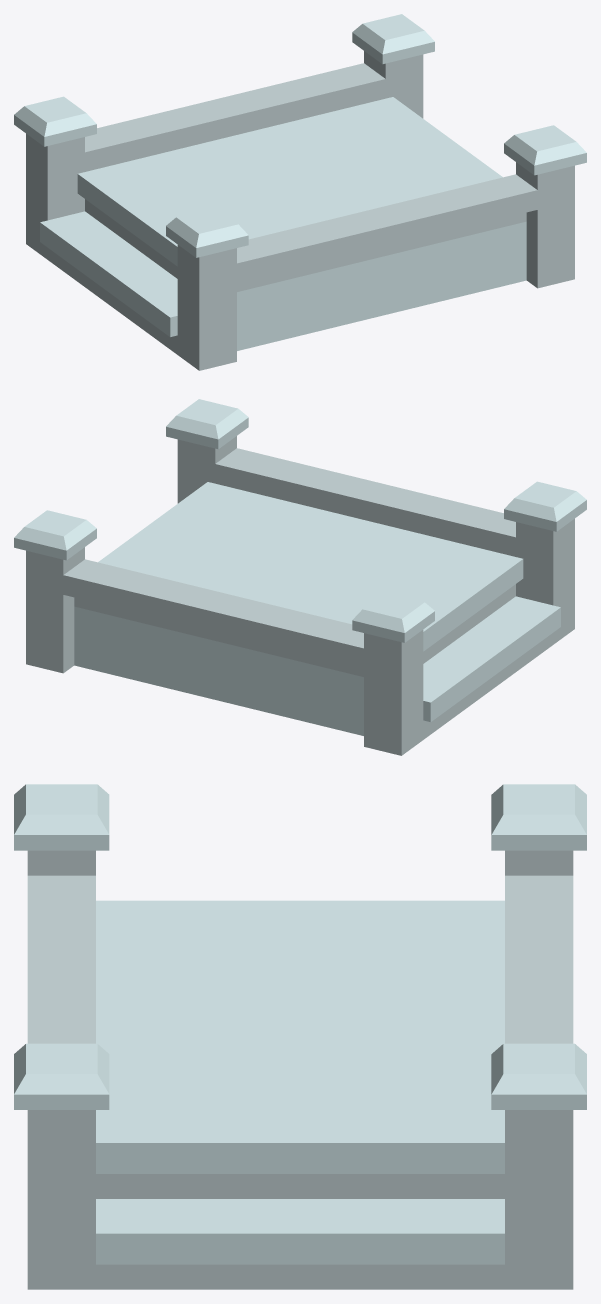
File: bridge_stoneNarrow.gltf
3 views of the same model, one above another, from view 1: azimuth 30°, elevation 25°; view 2: azimuth 150°, elevation 25°; view 3: azimuth 270°, elevation 25° (orthographic). The views are drawn at different scales.
Visible parts, largest first — view 1: bridge_stoneNarrow; view 2: bridge_stoneNarrow; view 3: bridge_stoneNarrow.
Part boxes in pixels (left/top/right/bottom): bridge_stoneNarrow: left=14, top=14, right=586, bottom=370; bridge_stoneNarrow: left=14, top=399, right=586, bottom=755; bridge_stoneNarrow: left=14, top=784, right=586, bottom=1289.
Bounding box in the file's own units: 1.04 × 0.35 × 0.84.
